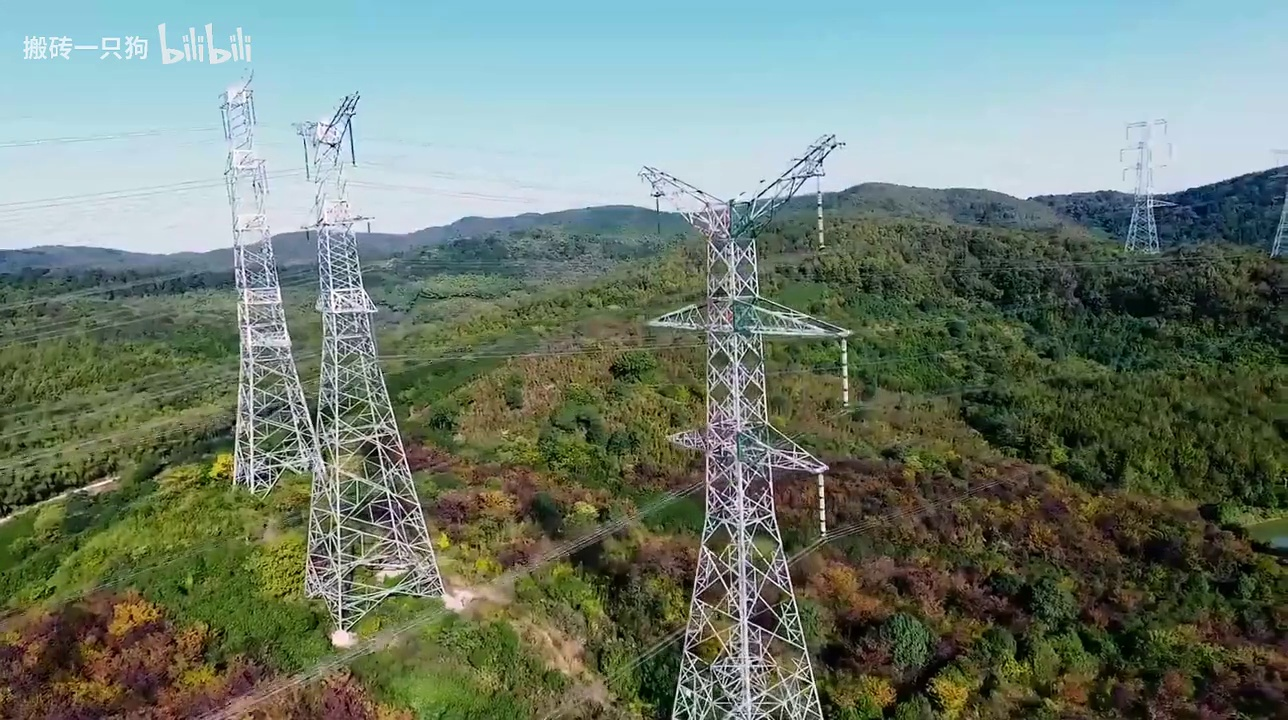tower_body: (610, 118, 858, 720), (200, 64, 330, 499)
tower_foot: (275, 80, 462, 621), (669, 587, 824, 720), (293, 493, 449, 615), (225, 405, 324, 491)
tower_head: (620, 130, 849, 237), (281, 89, 370, 186), (210, 74, 272, 150)
